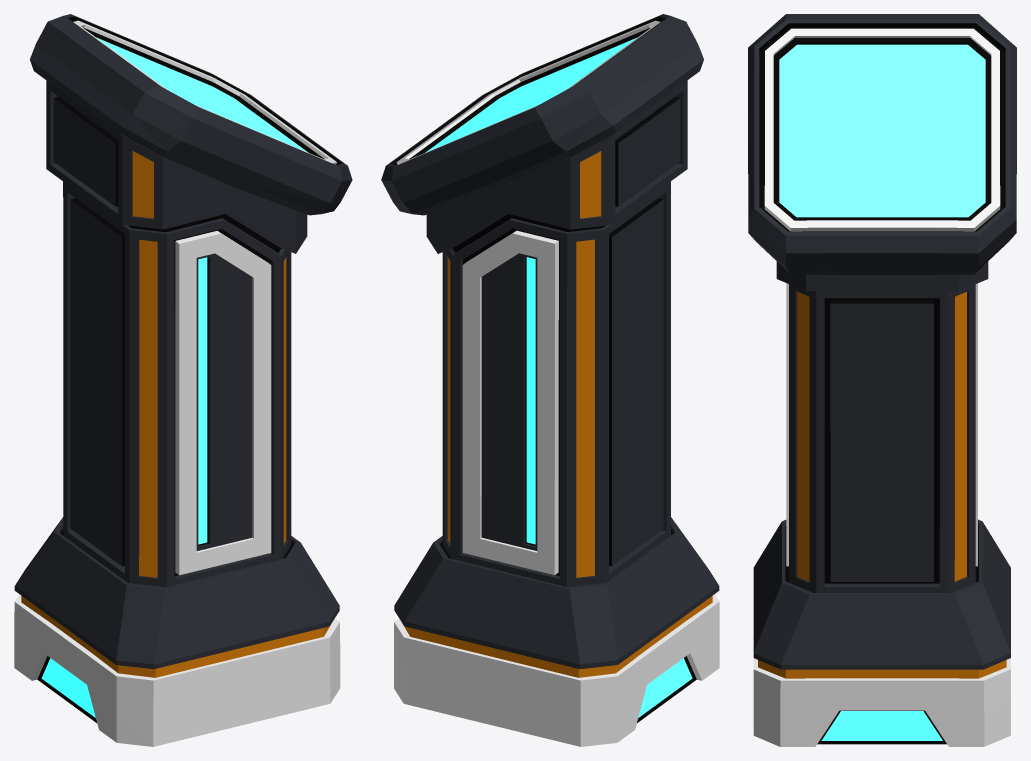
Rendered from SM_Standing_Medical_Console.fbx.
3 renders of one model, left to right at view 1: azimuth 30°, elevation 25°; view 2: azimuth 150°, elevation 25°; view 3: azimuth 270°, elevation 25°, orthographic.
Parts seen in each view (by area): view 1: SM_Standing_Medical_Console.001; view 2: SM_Standing_Medical_Console.001; view 3: SM_Standing_Medical_Console.001.
Boxes of the visible parts, box(x1,y1,x2,y2) form: SM_Standing_Medical_Console.001: box(14, 14, 352, 746); SM_Standing_Medical_Console.001: box(381, 14, 719, 746); SM_Standing_Medical_Console.001: box(748, 14, 1016, 746).
Size of the model in its own units: 47.95 by 123 by 46.87.
